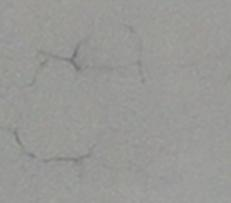retracao: (14, 22, 154, 99), (9, 122, 103, 171)
